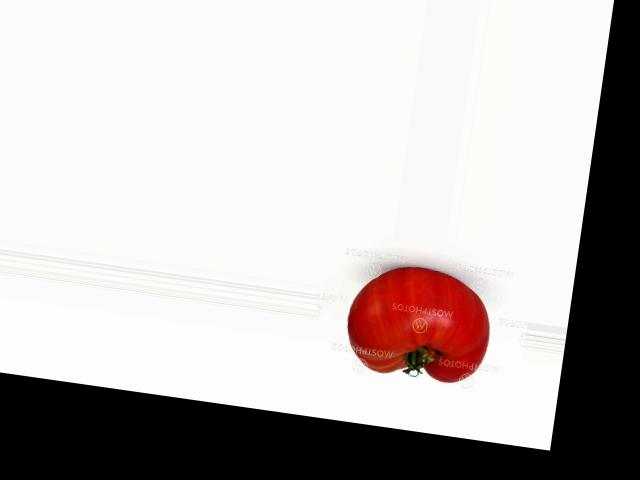tomato: (340, 258, 496, 387)
